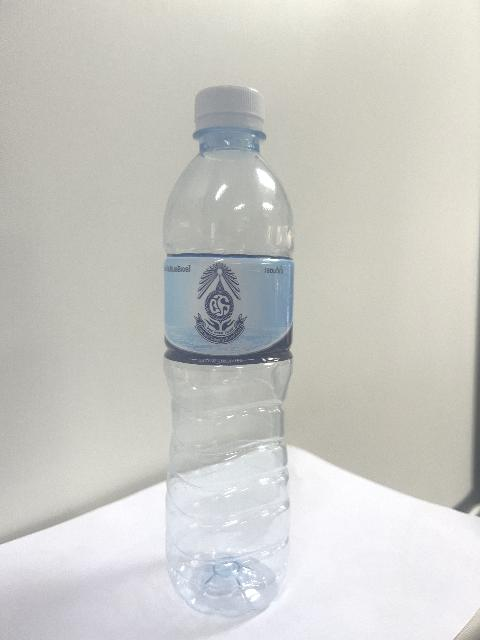bottle: (163, 86, 292, 616)
